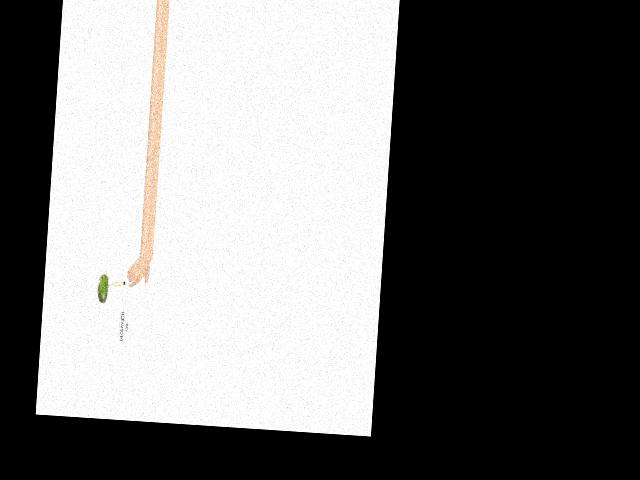cucumber: (97, 273, 109, 303)
